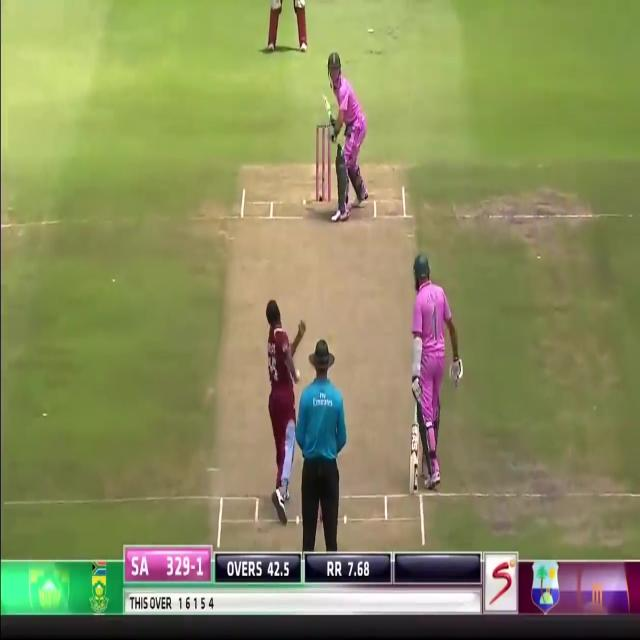Ball: (410, 253, 464, 488), (325, 53, 368, 219)
Fielder: (264, 300, 302, 532), (264, 0, 306, 52)
Umpire: (296, 341, 346, 551)
